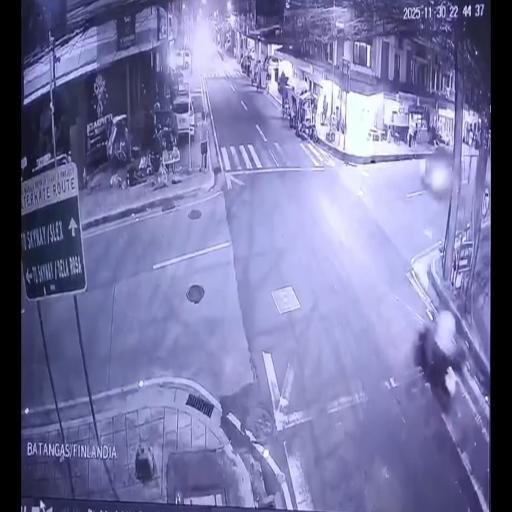Car: (426, 138, 456, 197)
Motor: (423, 300, 459, 402)
